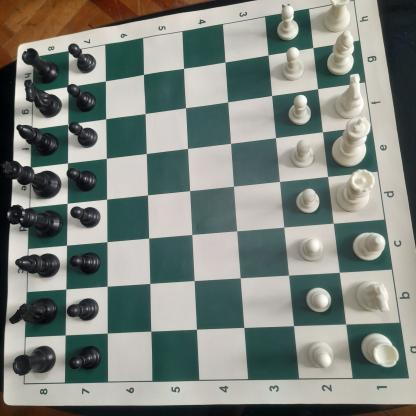black-bishop: (15, 122, 61, 157), (13, 250, 62, 279)
black-king: (0, 159, 64, 201)
black-knight: (6, 293, 62, 330), (18, 79, 64, 120)
black-pawn: (66, 342, 104, 374), (65, 40, 98, 74), (65, 296, 99, 325), (66, 165, 99, 194), (68, 249, 103, 276), (66, 84, 98, 113), (69, 204, 102, 230), (68, 122, 100, 148)
black-queen: (4, 203, 64, 240)
black-rook: (9, 344, 59, 378), (21, 46, 61, 84)
white-bishop: (350, 227, 388, 265), (326, 28, 356, 76)
white-king: (331, 116, 371, 168)
white-knight: (332, 73, 367, 120), (353, 278, 394, 318)
white-pawn: (274, 2, 302, 42), (280, 44, 307, 82), (308, 340, 337, 372), (305, 282, 333, 315), (288, 139, 317, 170), (287, 95, 315, 127), (298, 234, 326, 265), (295, 187, 321, 217)
white-queen: (333, 166, 376, 217)
white-rook: (359, 331, 404, 372), (318, 0, 354, 34)
